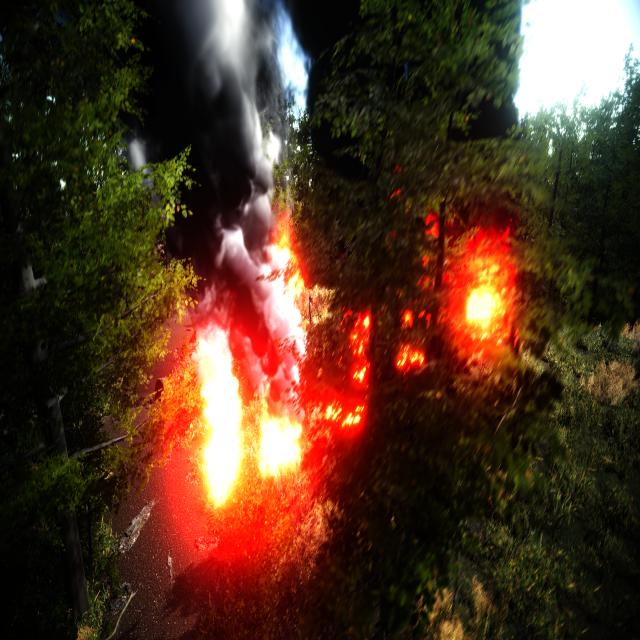Human: (304, 292, 314, 331)
